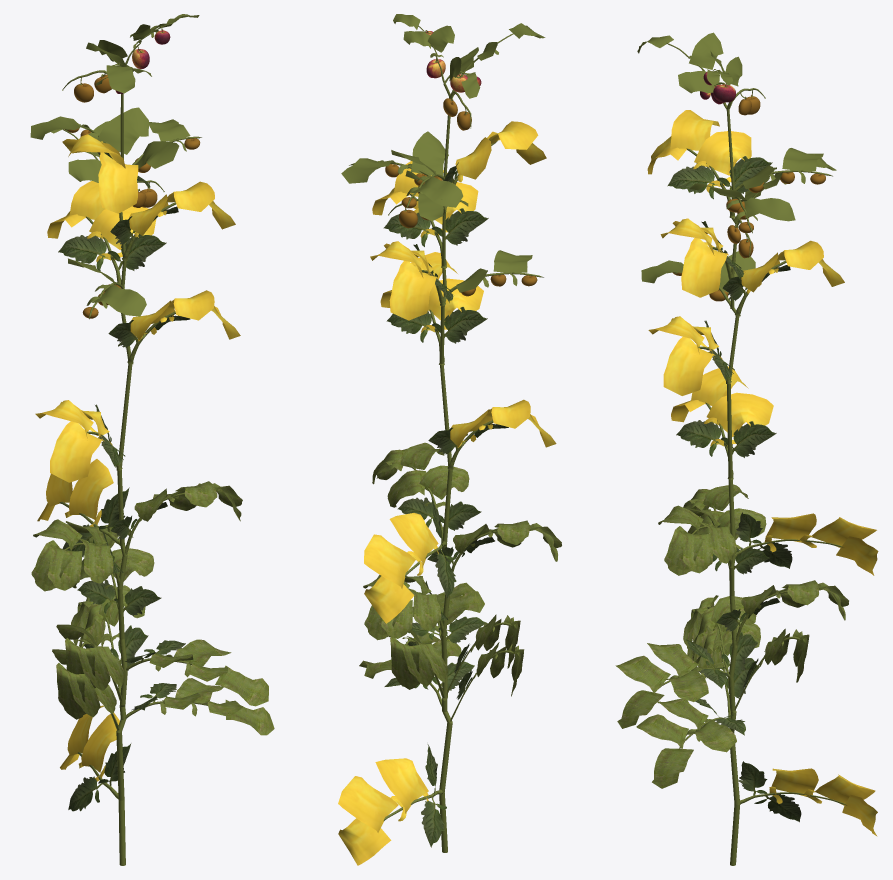
The model's file is apple_tree.dae.
The picture shows the model from 3 angles, left to right: view 1: azimuth 30°, elevation 25°; view 2: azimuth 150°, elevation 25°; view 3: azimuth 270°, elevation 25°; orthographic projection. The views are drawn at different scales.
Visible parts, largest first — view 1: Branch1, Blossom1, Blossom2, Leaf1; view 2: Blossom1, Branch1, Blossom2, Leaf1; view 3: Blossom1, Branch1, Blossom2, Leaf1.
Boxes of the visible parts, <box> form: Branch1: <box>30,14,274,865</box>; Blossom1: <box>35,134,240,781</box>; Blossom2: <box>31,481,242,719</box>; Leaf1: <box>58,152,190,811</box>; Blossom1: <box>338,121,556,865</box>; Branch1: <box>341,14,545,852</box>; Blossom2: <box>363,442,561,696</box>; Leaf1: <box>383,162,508,847</box>; Blossom1: <box>647,110,878,836</box>; Branch1: <box>615,32,846,865</box>; Blossom2: <box>658,484,848,682</box>; Leaf1: <box>667,156,801,822</box>.
Bounding box in the file's own units: 0.7664 × 0.7847 × 2.71.
6 materials, 5 textured.
